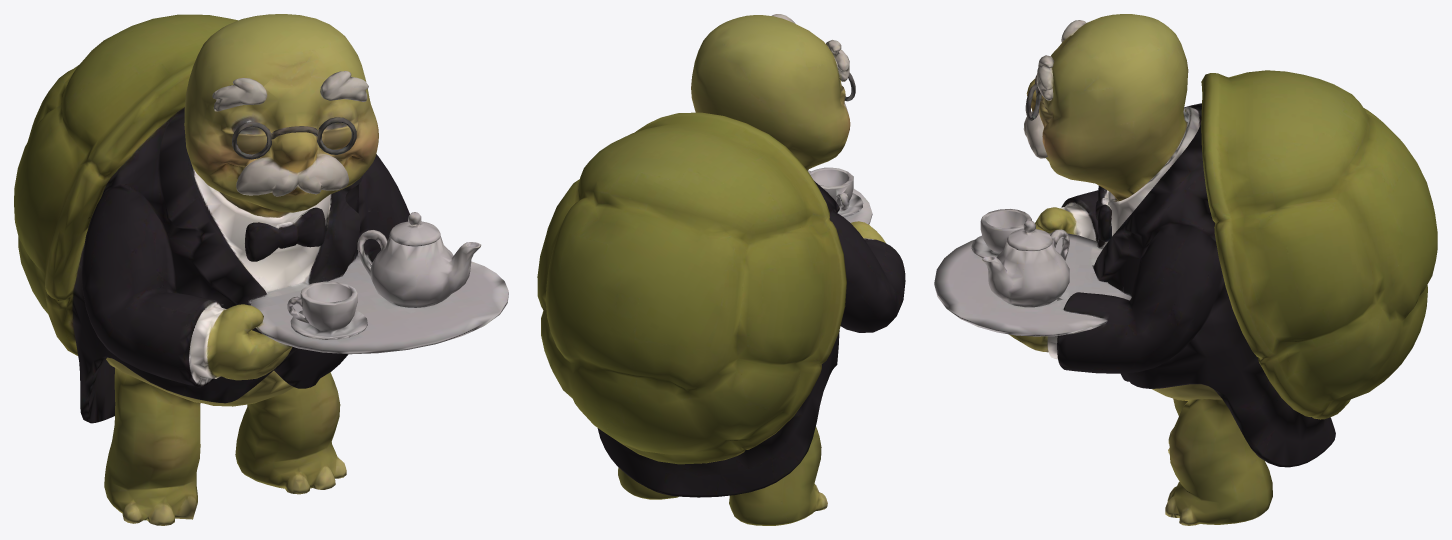
The model's file is bramwell.glb.
The picture shows the model from 3 angles, left to right: view 1: azimuth 30°, elevation 25°; view 2: azimuth 150°, elevation 25°; view 3: azimuth 270°, elevation 25°; orthographic projection. The views are drawn at different scales.
Visible parts, largest first — view 1: bramwell; view 2: bramwell; view 3: bramwell.
Part boxes in pixels (x1,y1,x2,y2): bramwell: (14, 14, 508, 525); bramwell: (537, 14, 905, 525); bramwell: (934, 14, 1437, 525).
Size of the model in its own units: 1.05 by 1.5 by 1.5.
Materials: 1 (1 with a texture image).
